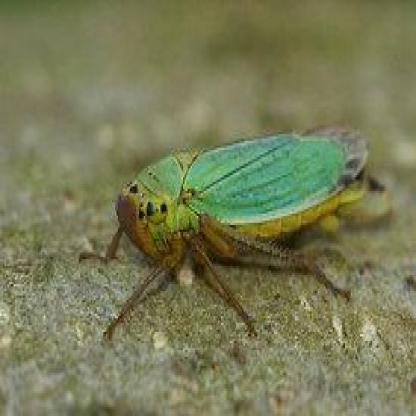Green-Leafhopper: (79, 128, 388, 340)
